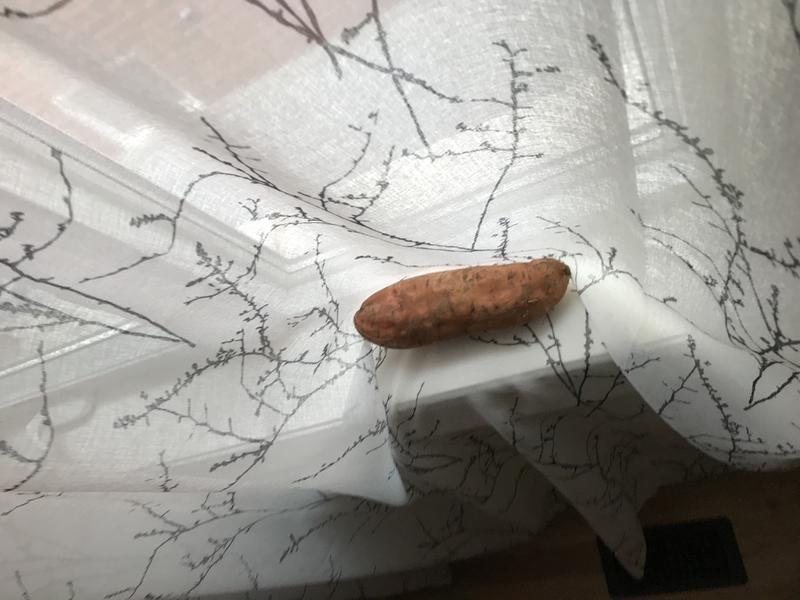sweet_potato: (347, 250, 576, 356)
